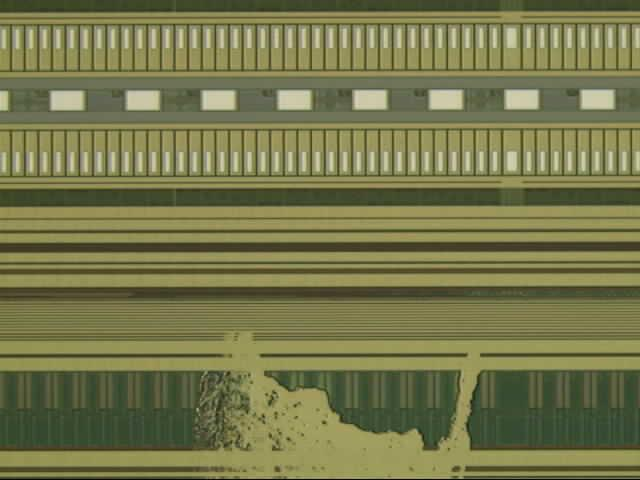BLOCK ETCH: (192, 331, 485, 480)
